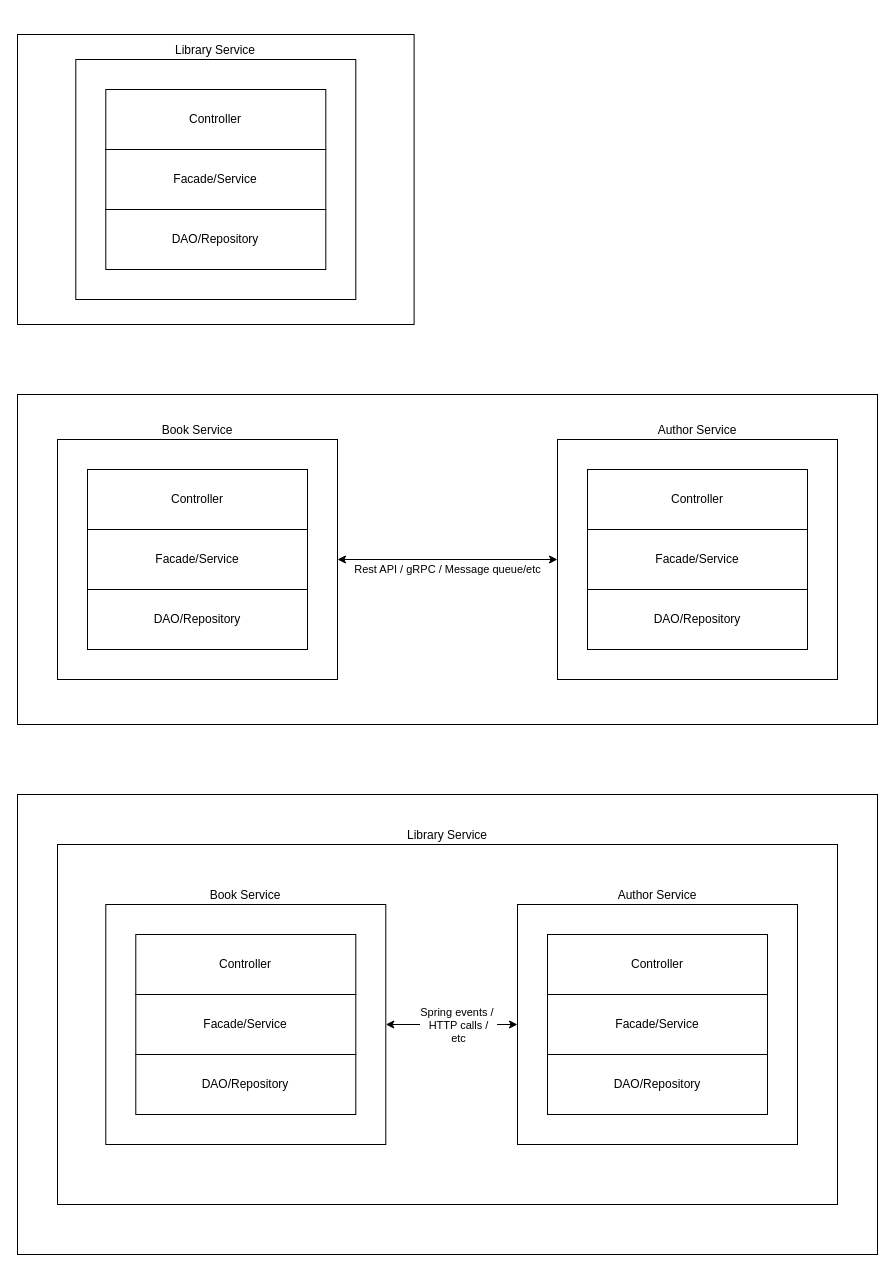
Some shapes in this 895 by 1272 pixel diagram are drawn without their labels. The box of each missing label's shape, as (x1, y1, x2, y2) in pixels:
Conventional Monolith (One war file): (16, 34, 414, 324)
Microservices (Multiple war, multiple deployments): (16, 394, 878, 724)
Modular Monolith (One war file, multiple business domains): (16, 794, 878, 1254)
